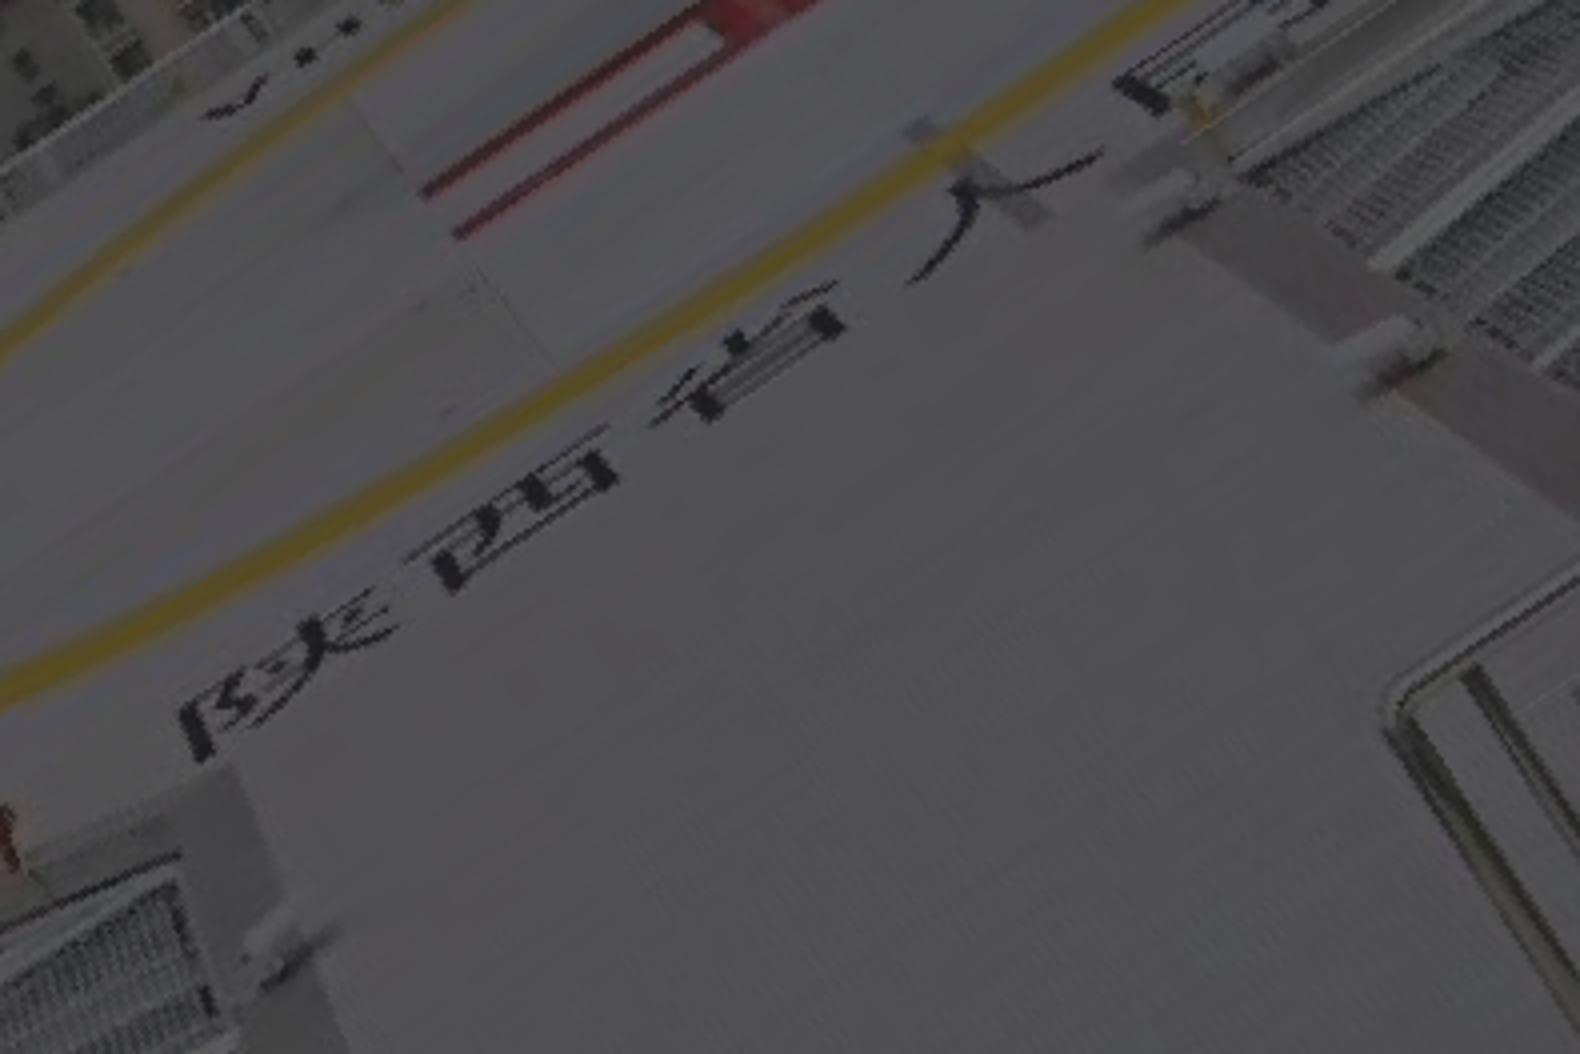Apron: (1, 1, 1248, 733)
